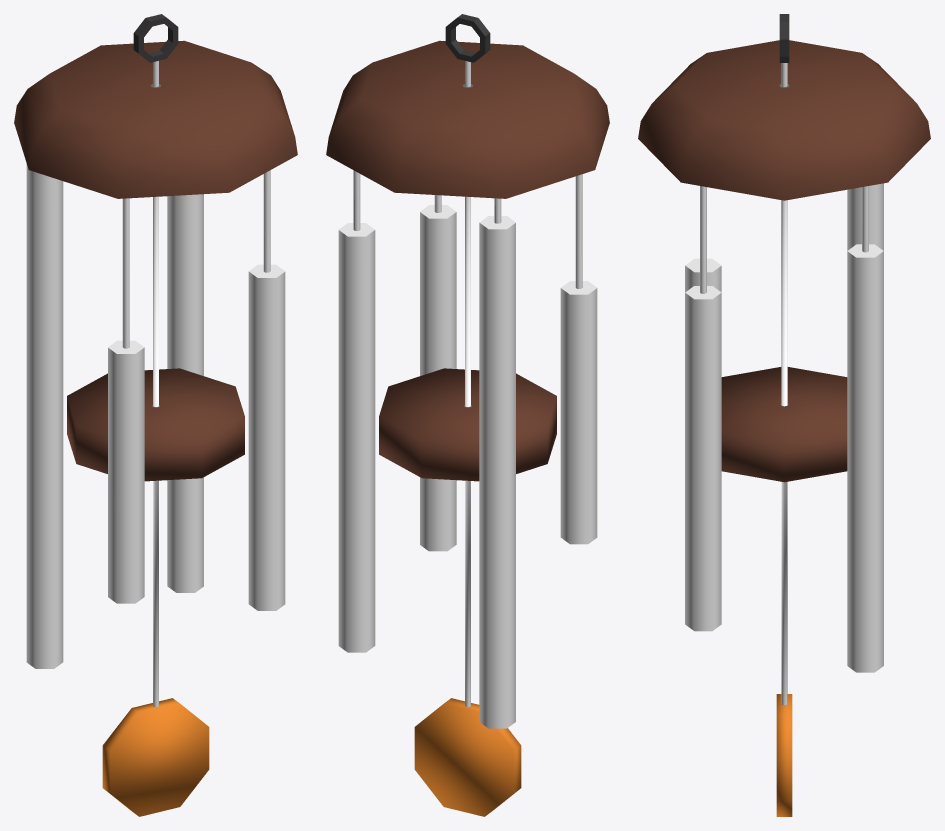
3 renders of one model, left to right at view 1: azimuth 30°, elevation 25°; view 2: azimuth 150°, elevation 25°; view 3: azimuth 270°, elevation 25°, orthographic.
Visible parts, largest first — view 1: Pipes, TopCircle, Clapper, Sail, Ring; view 2: Pipes, TopCircle, Clapper, Sail, Ring; view 3: TopCircle, Pipes, Clapper, Sail, Ring.
Part boxes in pixels (bbox=[...]): Pipes: bbox=[26, 164, 285, 668]; TopCircle: bbox=[14, 40, 297, 198]; Clapper: bbox=[67, 196, 244, 706]; Sail: bbox=[102, 698, 209, 816]; Ring: bbox=[133, 14, 178, 62]; Pipes: bbox=[338, 170, 597, 728]; TopCircle: bbox=[326, 40, 609, 198]; Clapper: bbox=[379, 196, 556, 706]; Sail: bbox=[414, 698, 521, 816]; Ring: bbox=[445, 14, 490, 62]; TopCircle: bbox=[638, 40, 930, 200]; Pipes: bbox=[685, 183, 883, 672]; Clapper: bbox=[721, 200, 847, 705]; Sail: bbox=[776, 694, 792, 816]; Ring: bbox=[779, 14, 789, 62].
Size of the model in its own units: 0.2 by 0.5944 by 0.2.
2 materials, 2 textured.
